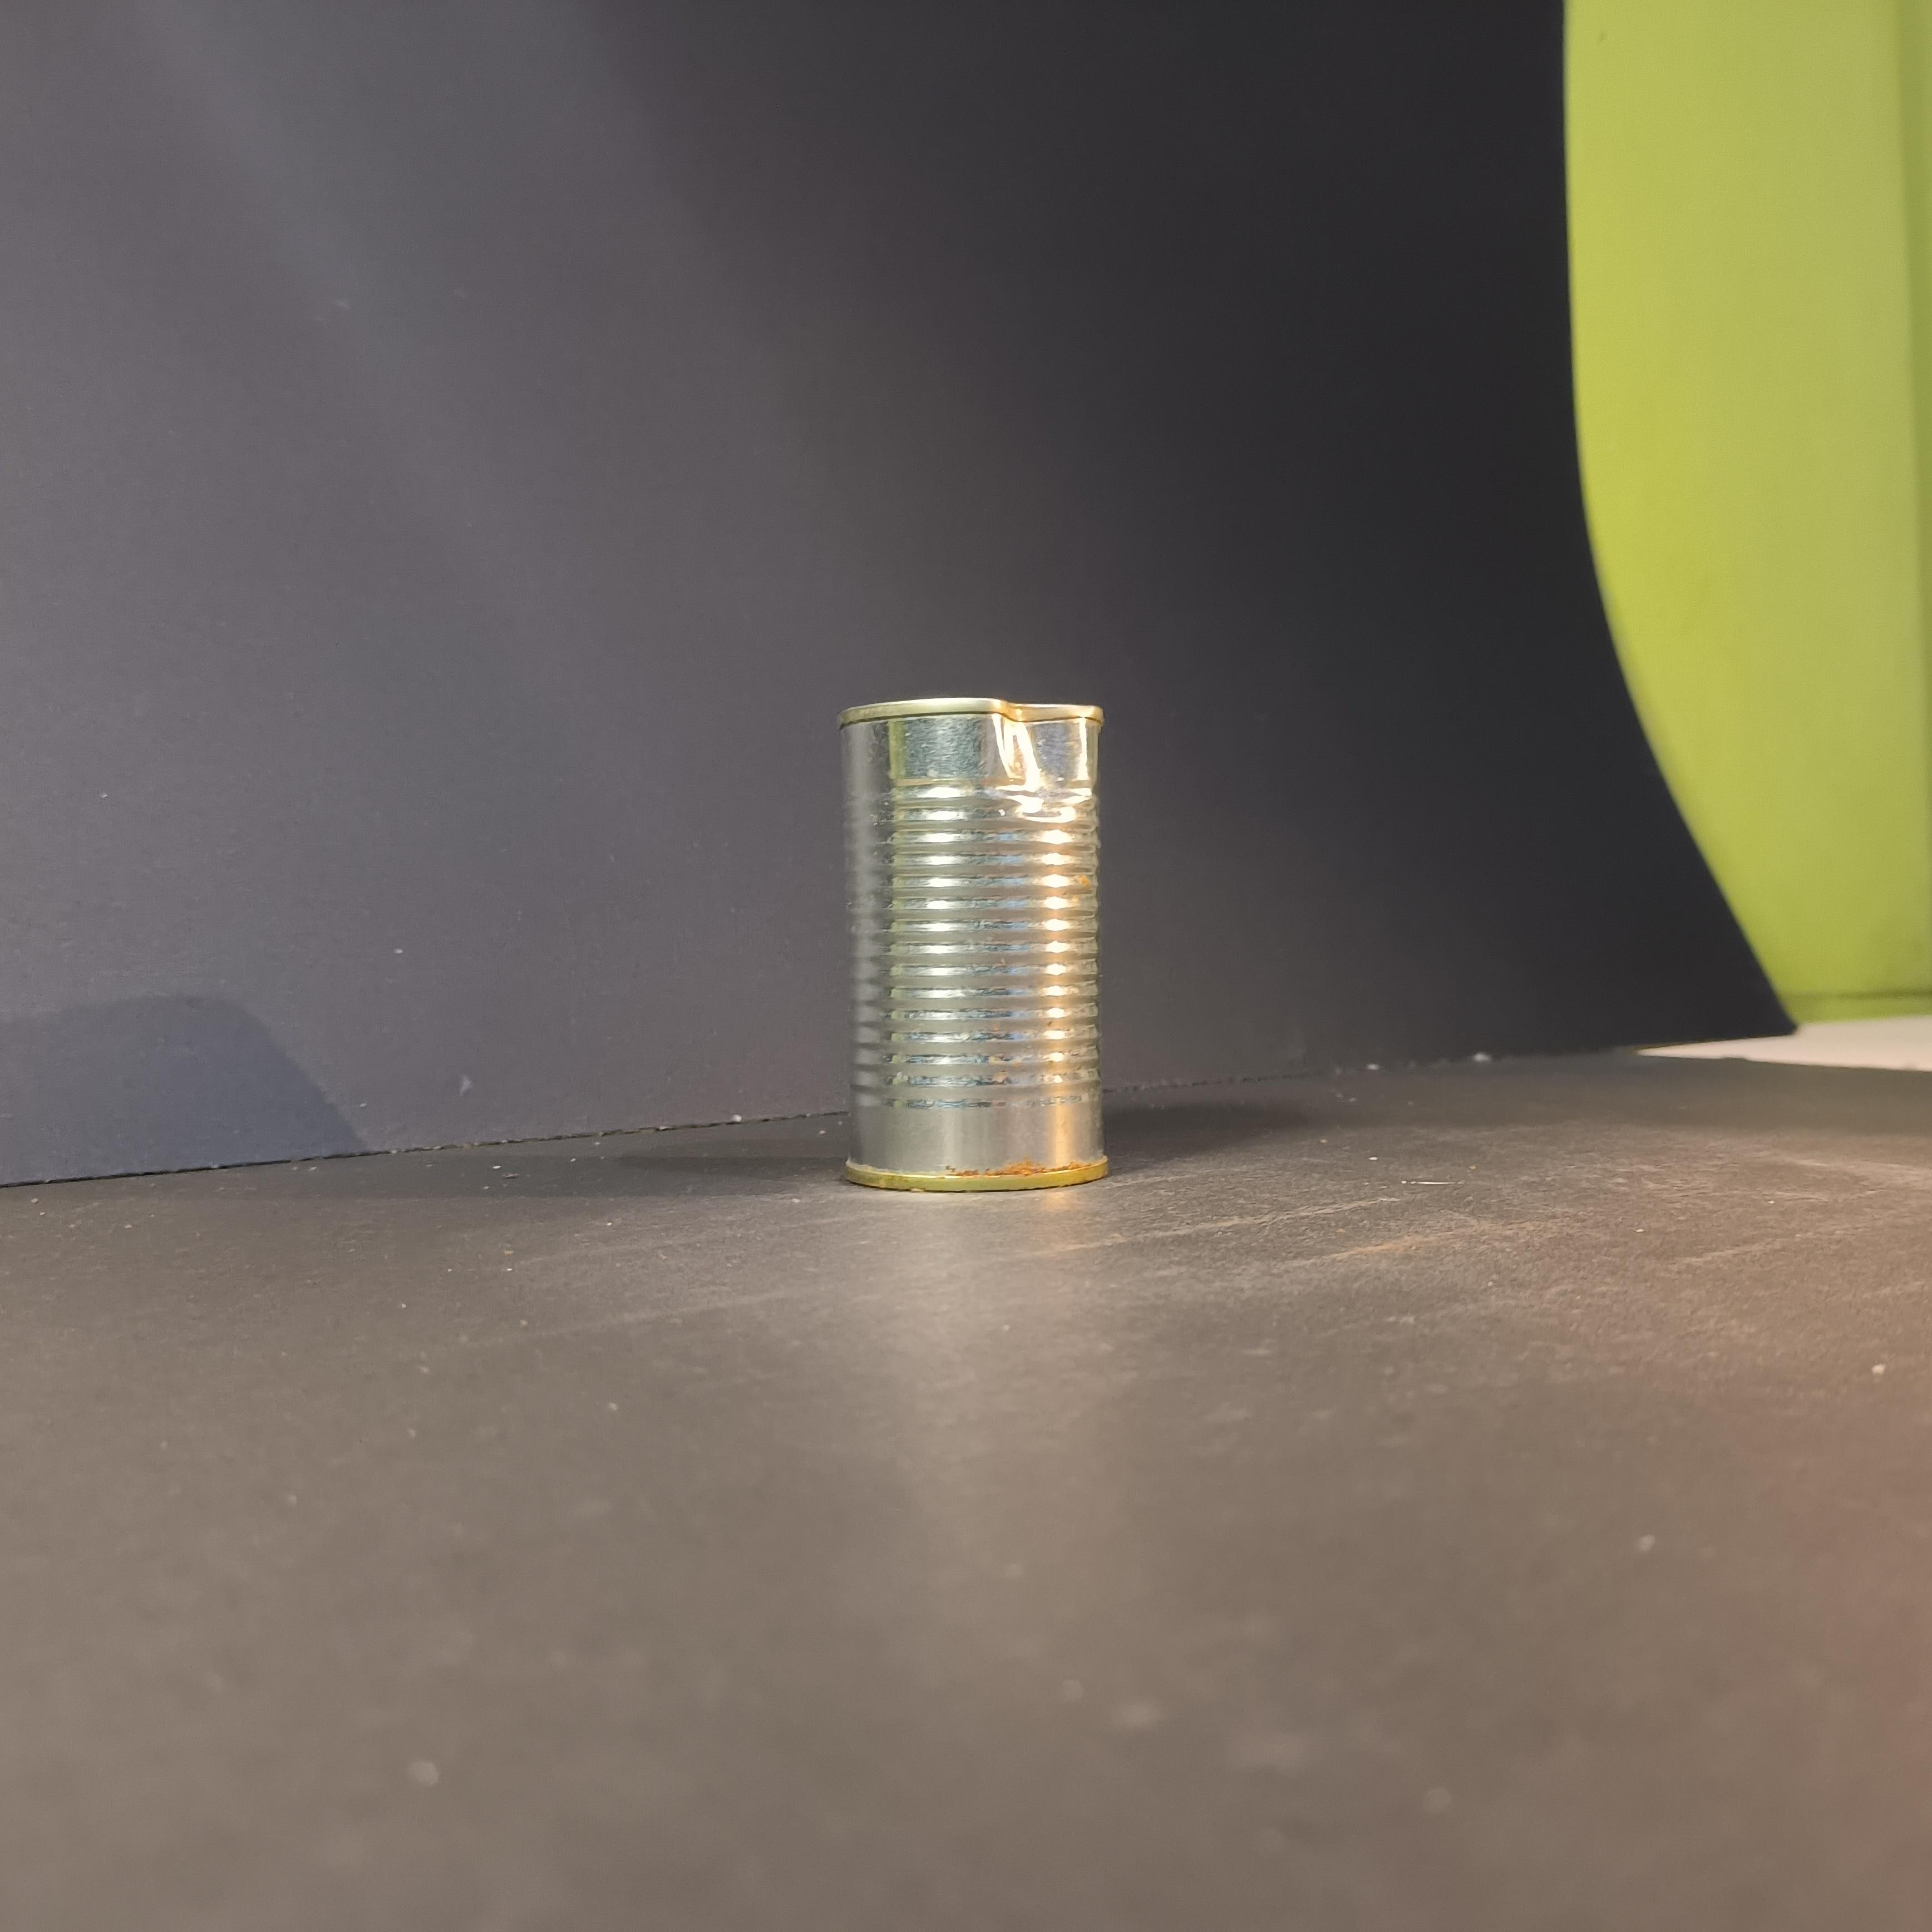Dented: (821, 667, 1132, 1210)
